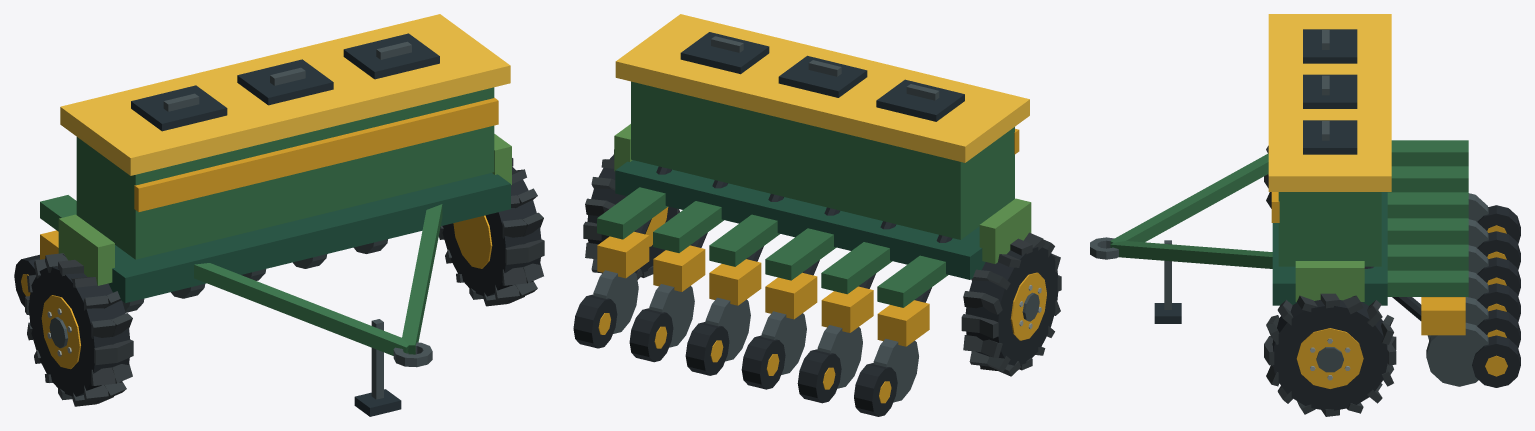
Rendered from seeder.glb.
3 renders of one model, left to right at view 1: azimuth 30°, elevation 25°; view 2: azimuth 150°, elevation 25°; view 3: azimuth 270°, elevation 25°, orthographic. The views are drawn at different scales.
Visible parts, largest first — view 1: body__green, body__yellow2, body__green_dark, body__yellow, body__dark, transport_wheel_-1__rubber, transport_wheel_-1__tread, transport_wheel_1__tread, transport_wheel_1__rubber, body__green2, body__metal, transport_wheel_-1__yellow (+4 smaller); view 2: body__green, body__yellow2, body__green_dark, body__dark, transport_wheel_-1__rubber, transport_wheel_-1__tread, body__green2, row_unit_1__green, row_unit_3__green, row_unit_4__green, row_unit_2__green, row_unit_6__green (+23 smaller); view 3: body__yellow2, body__green, transport_wheel_1__rubber, body__dark, transport_wheel_1__tread, body__green_dark, row_unit_6__metal, body__green2, transport_wheel_1__yellow, row_unit_4__green, row_unit_3__green, row_unit_5__green (+17 smaller).
Part boxes in pixels (x1=…): body__green: x1=76, y1=87, x2=494, y2=355; body__yellow2: x1=60, y1=14, x2=510, y2=175; body__green_dark: x1=108, y1=173, x2=510, y2=302; body__yellow: x1=134, y1=97, x2=498, y2=211; body__dark: x1=131, y1=33, x2=439, y2=416; transport_wheel_-1__rubber: x1=28, y1=266, x2=130, y2=396; transport_wheel_-1__tread: x1=25, y1=253, x2=133, y2=406; transport_wheel_1__tread: x1=438, y1=158, x2=544, y2=306; transport_wheel_1__rubber: x1=442, y1=166, x2=541, y2=296; body__green2: x1=58, y1=134, x2=511, y2=285; body__metal: x1=163, y1=41, x2=432, y2=399; transport_wheel_-1__yellow: x1=41, y1=295, x2=80, y2=369; body__green: x1=631, y1=81, x2=1014, y2=239; body__yellow2: x1=615, y1=14, x2=1029, y2=162; body__green_dark: x1=615, y1=160, x2=985, y2=279; body__dark: x1=680, y1=32, x2=964, y2=121; transport_wheel_-1__rubber: x1=965, y1=247, x2=1058, y2=365; transport_wheel_-1__tread: x1=961, y1=232, x2=1061, y2=376; body__green2: x1=614, y1=124, x2=1031, y2=263; row_unit_1__green: x1=877, y1=255, x2=948, y2=307; row_unit_3__green: x1=765, y1=228, x2=836, y2=280; row_unit_4__green: x1=709, y1=214, x2=780, y2=266; row_unit_2__green: x1=821, y1=242, x2=892, y2=294; row_unit_6__green: x1=597, y1=187, x2=667, y2=239; body__yellow2: x1=1268, y1=14, x2=1391, y2=191; body__green: x1=1110, y1=153, x2=1381, y2=268; transport_wheel_1__rubber: x1=1272, y1=300, x2=1388, y2=410; body__dark: x1=1154, y1=29, x2=1357, y2=323; transport_wheel_1__tread: x1=1264, y1=293, x2=1396, y2=416; body__green_dark: x1=1272, y1=192, x2=1387, y2=305; row_unit_6__metal: x1=1426, y1=322, x2=1488, y2=386; body__green2: x1=1295, y1=261, x2=1364, y2=301; transport_wheel_1__yellow: x1=1296, y1=328, x2=1363, y2=388; row_unit_4__green: x1=1387, y1=218, x2=1468, y2=244; row_unit_3__green: x1=1387, y1=192, x2=1468, y2=218; row_unit_5__green: x1=1387, y1=244, x2=1468, y2=270.
Bounding box in the file's own units: 3.21 × 1.83 × 3.
